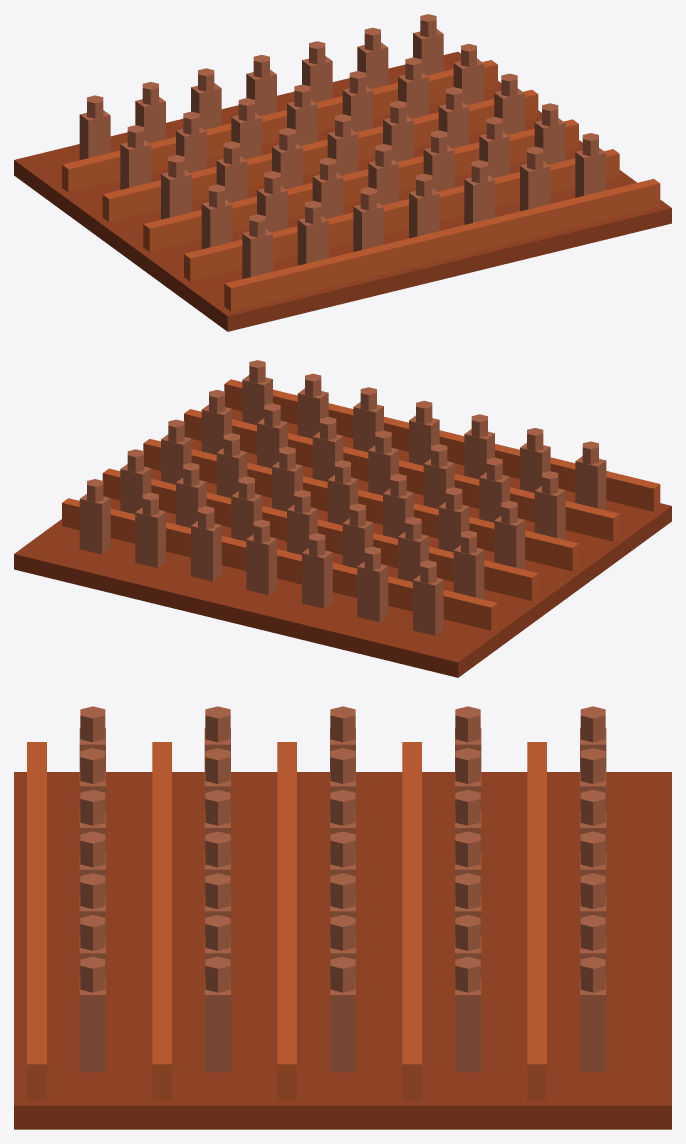
File: terracotta.glb
3 views of the same model, one above another, from view 1: azimuth 30°, elevation 25°; view 2: azimuth 150°, elevation 25°; view 3: azimuth 270°, elevation 25° (orthographic). The views are drawn at different scales.
Visible parts, largest first — view 1: terracotta; view 2: terracotta; view 3: terracotta.
Part boxes in pixels (x1=…): terracotta: x1=14, y1=14, x2=671, y2=331; terracotta: x1=14, y1=360, x2=671, y2=677; terracotta: x1=14, y1=706, x2=671, y2=1129.
Bounding box in the file's own units: 1.2 × 0.21 × 1.
